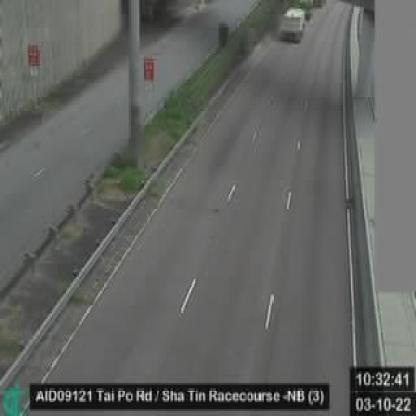Car: (278, 0, 310, 43)
